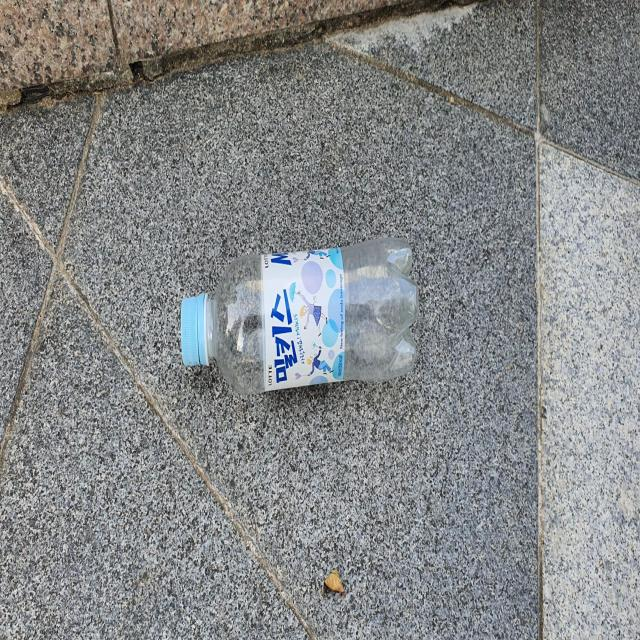plastic: (181, 237, 419, 394)
